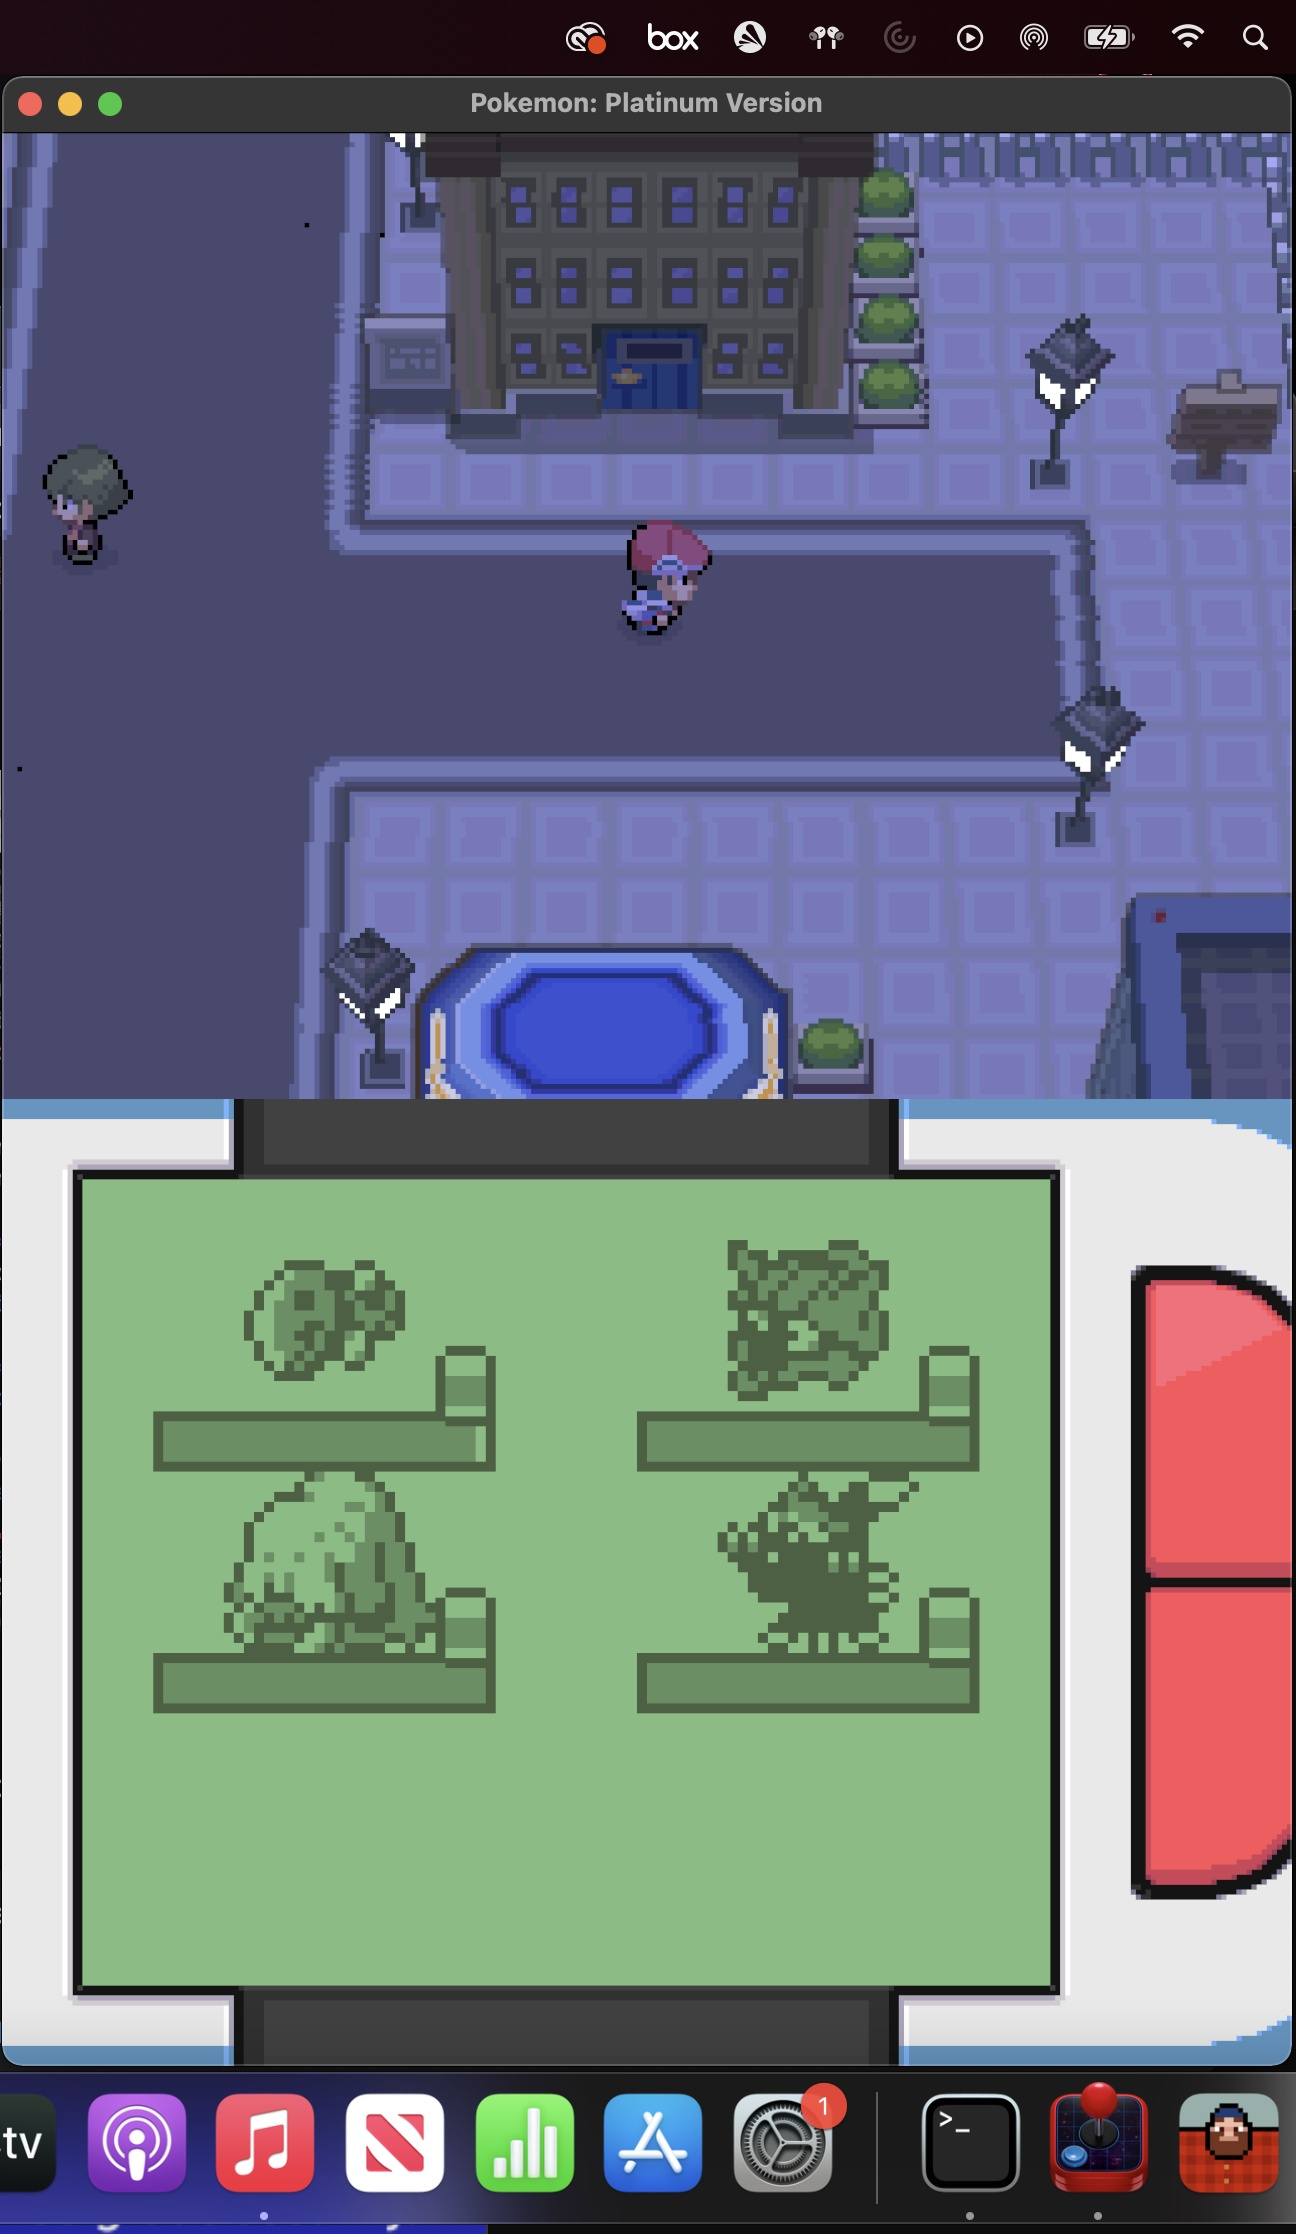player: (606, 515, 714, 651)
turn left: (999, 302, 1284, 511)
